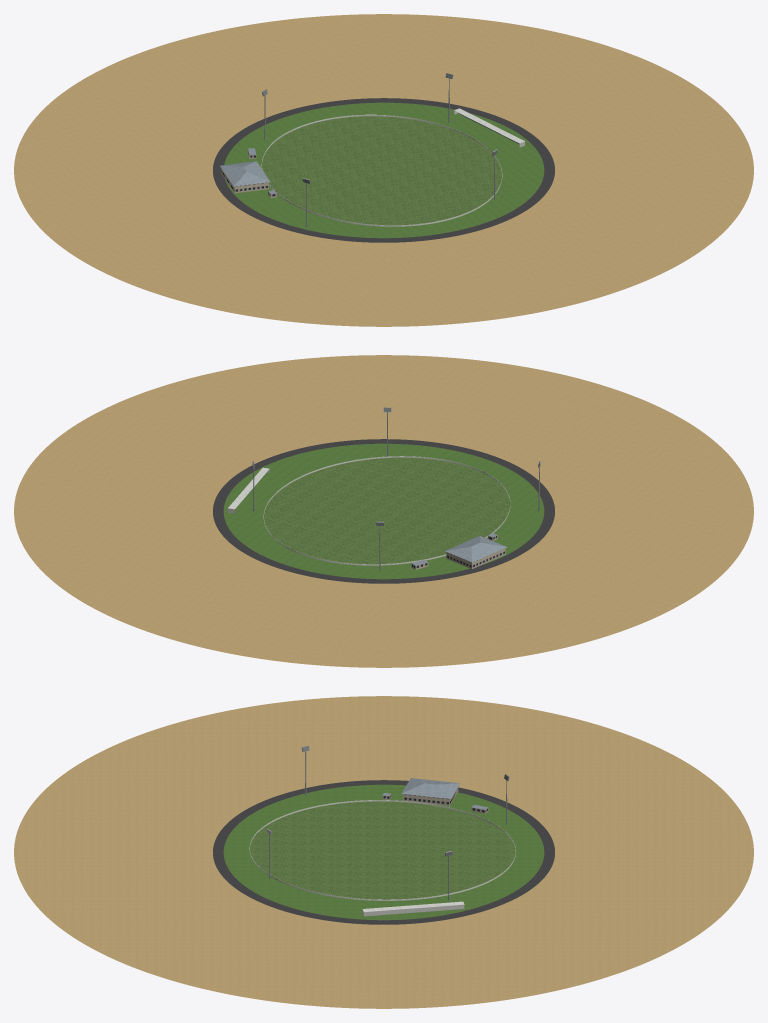
File: summit.glb
The picture shows the model from 3 angles, top to bottom: view 1: azimuth 30°, elevation 25°; view 2: azimuth 150°, elevation 25°; view 3: azimuth 270°, elevation 25°; orthographic projection.
Parts seen in each view (by area): view 1: concourse, extras, fence; view 2: concourse, extras, fence; view 3: concourse, extras, fence.
Boxes of the visible parts, left/top/right/bottom form: concourse: left=14, top=14, right=753, bottom=326; extras: left=220, top=108, right=524, bottom=197; fence: left=261, top=114, right=502, bottom=226; concourse: left=14, top=355, right=753, bottom=667; extras: left=228, top=467, right=506, bottom=569; fence: left=263, top=456, right=510, bottom=565; concourse: left=14, top=696, right=753, bottom=1008; extras: left=362, top=778, right=488, bottom=916; fence: left=249, top=800, right=515, bottom=900.
Bounding box in the file's own units: 480 × 34.95 × 480.
14 materials, 14 textured.
